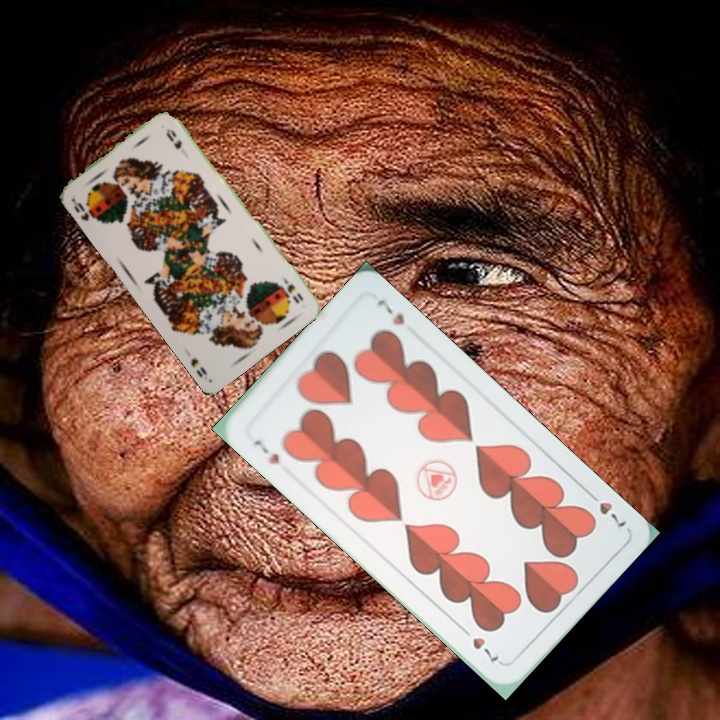H7: (582, 486, 629, 530), (249, 435, 282, 467)
SO: (68, 195, 103, 224), (279, 273, 306, 306)
